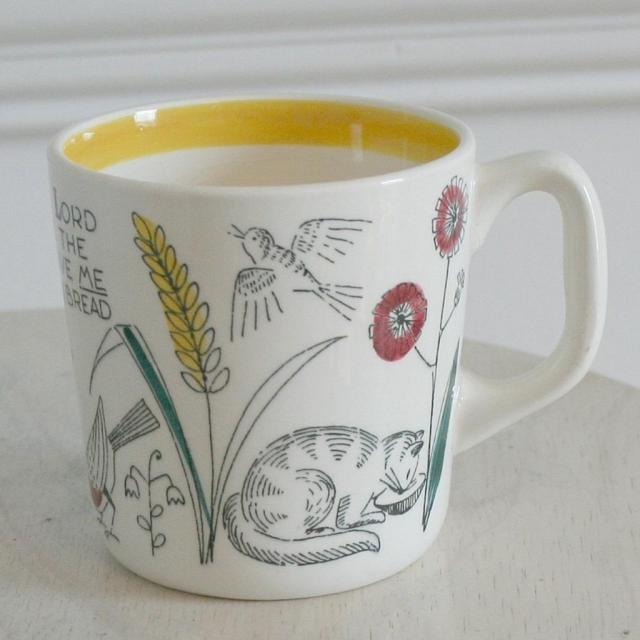cup-handle: (46, 90, 606, 602)
